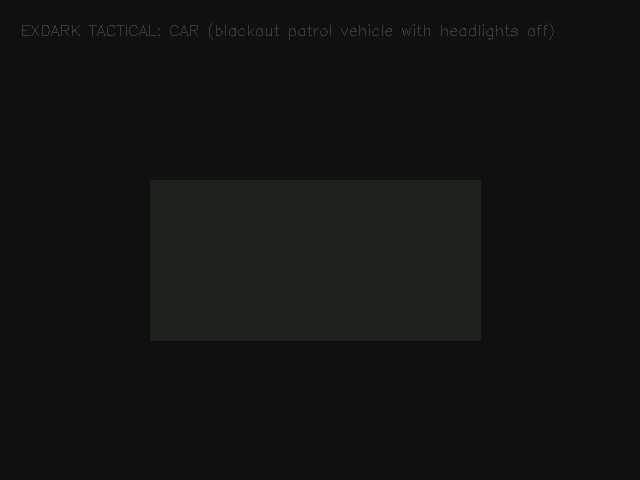Car: (150, 180, 480, 340)
